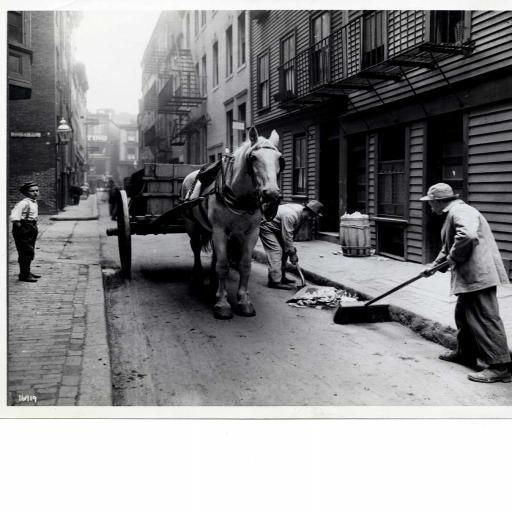horse: (180, 124, 284, 322)
